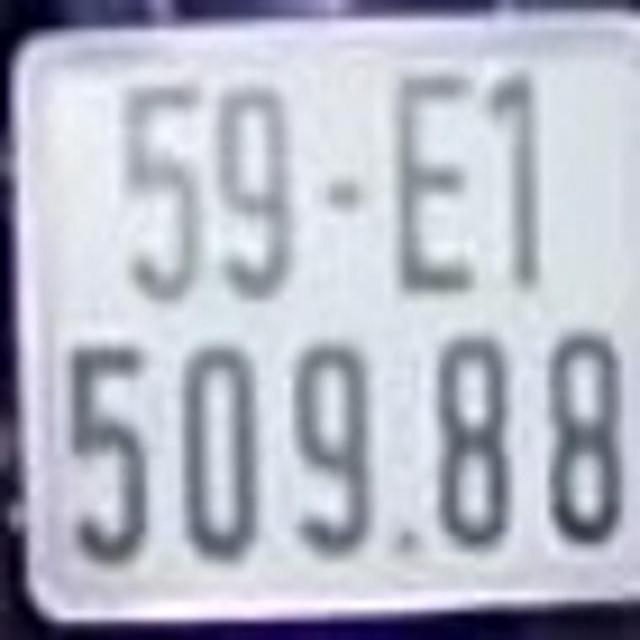0: (177, 337, 259, 561)
1: (487, 61, 552, 302)
5: (116, 76, 203, 302), (69, 337, 150, 561)
8: (433, 324, 516, 550), (547, 324, 624, 548)
9: (286, 333, 373, 558), (213, 77, 296, 298)
E: (391, 66, 480, 305)
